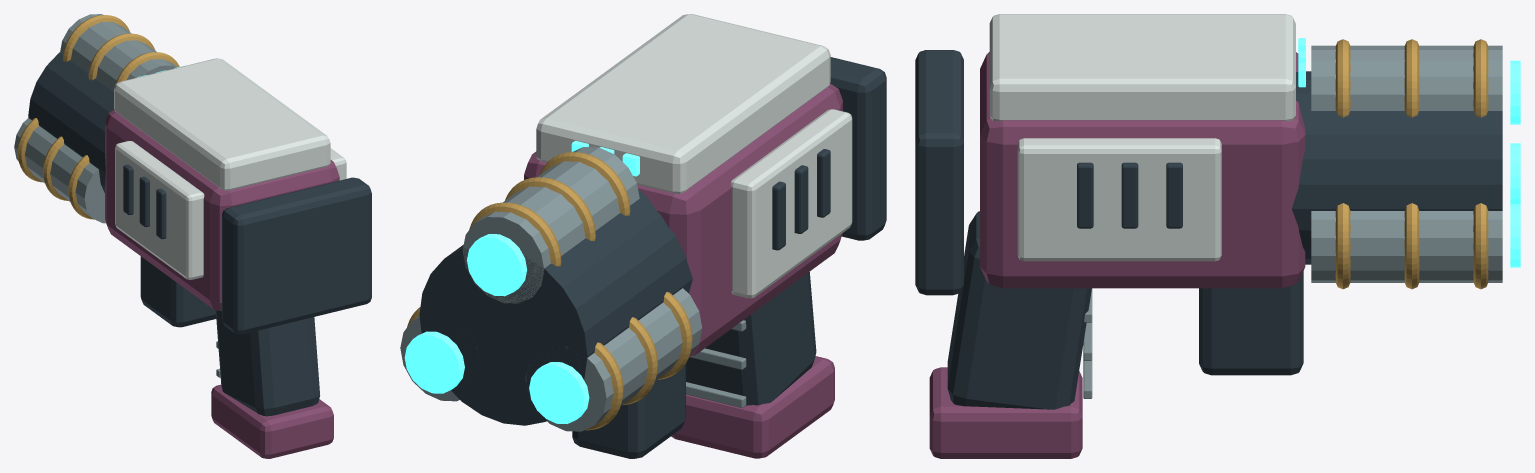
File: ezpal_coil_dispenser.glb
3 views of the same model, side by side, from view 1: azimuth 30°, elevation 25°; view 2: azimuth 150°, elevation 25°; view 3: azimuth 270°, elevation 25° (orthographic). The views are drawn at different scales.
Parts seen in each view (by area): view 1: ezpal_coil_dispenser_mesh, Coil_carousel_mesh; view 2: ezpal_coil_dispenser_mesh, Coil_carousel_mesh; view 3: ezpal_coil_dispenser_mesh, Coil_carousel_mesh.
Boxes of the visible parts, x1,y1,x2,y2 form: ezpal_coil_dispenser_mesh: (105, 58, 371, 458); Coil_carousel_mesh: (14, 14, 179, 223); ezpal_coil_dispenser_mesh: (524, 14, 886, 458); Coil_carousel_mesh: (400, 147, 702, 431); ezpal_coil_dispenser_mesh: (915, 14, 1305, 458); Coil_carousel_mesh: (1292, 39, 1520, 289).
Bounding box in the file's own units: 0.209 × 0.3415 × 0.474.
